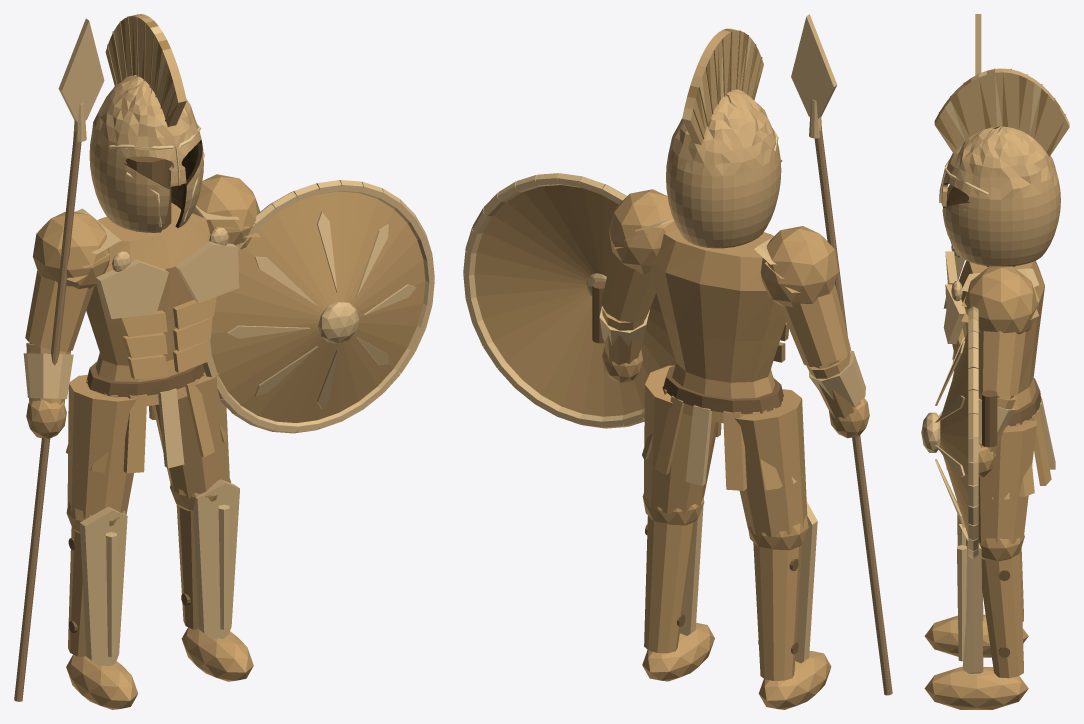
File: warrior.glb
3 views of the same model, side by side, from view 1: azimuth 30°, elevation 25°; view 2: azimuth 150°, elevation 25°; view 3: azimuth 270°, elevation 25° (orthographic). The views are drawn at different scales.
Parts seen in each view (by area): view 1: Convex bronze shield, Hollow helmet shell, Faceted cuirass, Thigh, Greave face, Greave face.001, Radial fan crest, Spear ash shaft, Thigh.001, Deltoid, Upper arm, Pectoral plate (+23 smaller); view 2: Convex bronze shield, Faceted cuirass, Hollow helmet shell, Thigh, Calf, Calf.001, Thigh.001, Deltoid, Radial fan crest, Deltoid.001, Spear ash shaft, Upper arm (+18 smaller); view 3: Hollow helmet shell, Radial fan crest, Thigh.001, Calf.001, Deltoid.001, Armored foot.001, Convex bronze shield, Upper arm.001, Faceted cuirass, Greave face.001, Armored foot, Greave central ridge.001 (+18 smaller).
Part boxes in pixels (x1,y1,x2,y2): Convex bronze shield: (210,191,425,422); Hollow helmet shell: (89,75,203,232); Faceted cuirass: (86,203,210,406); Thigh: (67,374,136,518); Greave face: (79,506,127,665); Greave face.001: (193,479,239,638); Radial fan crest: (105,14,186,126); Spear ash shaft: (14,132,81,701); Thigh.001: (152,373,229,498); Deltoid: (32,212,109,288); Upper arm: (25,270,93,351); Pectoral plate: (96,259,168,319); Convex bronze shield: (474,185,675,416); Faceted cuirass: (649,228,785,423); Hollow helmet shell: (666,89,781,248); Thigh: (735,389,807,536); Calf: (753,542,801,680); Calf.001: (644,516,695,653); Thigh.001: (643,365,718,513); Deltoid: (760,226,838,307); Radial fan crest: (682,28,763,144); Deltoid.001: (608,189,677,274); Spear ash shaft: (814,127,892,695); Upper arm: (779,283,850,366); Hollow helmet shell: (941,126,1060,266); Radial fan crest: (934,68,1069,156); Thigh.001: (978,420,1036,544); Calf.001: (981,553,1023,678); Deltoid.001: (964,266,1038,334); Armored foot.001: (924,667,1028,709); Convex bronze shield: (940,329,968,535); Upper arm.001: (978,330,1025,395); Faceted cuirass: (959,260,1044,420); Greave face.001: (959,524,983,673); Armored foot: (924,614,1028,657); Greave central ridge.001: (957,545,966,661).
Size of the model in its own units: 1.39 by 2.15 by 0.4554.
